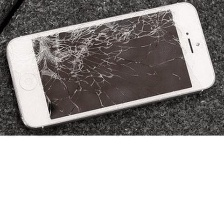phone: (3, 0, 217, 132)
